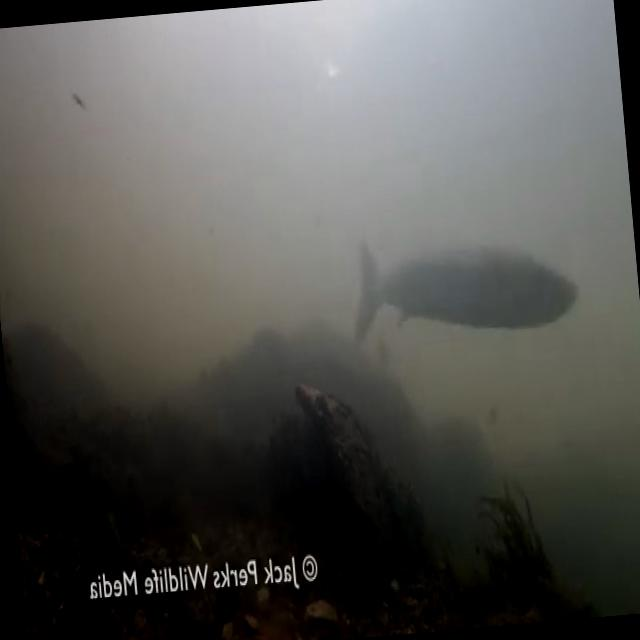Cakil Baligi: (341, 210, 580, 351)
